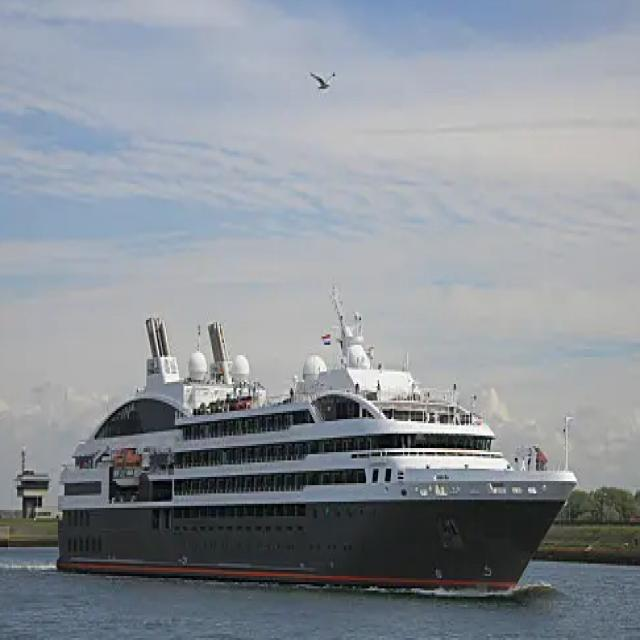passenger ship: (38, 295, 592, 620)
